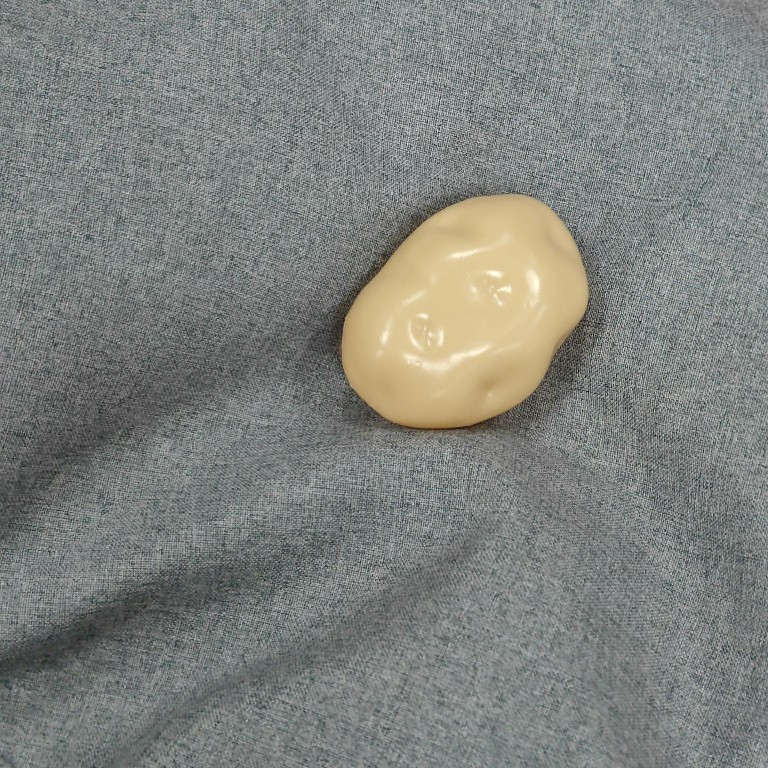fruit_potato: (336, 189, 591, 435)
